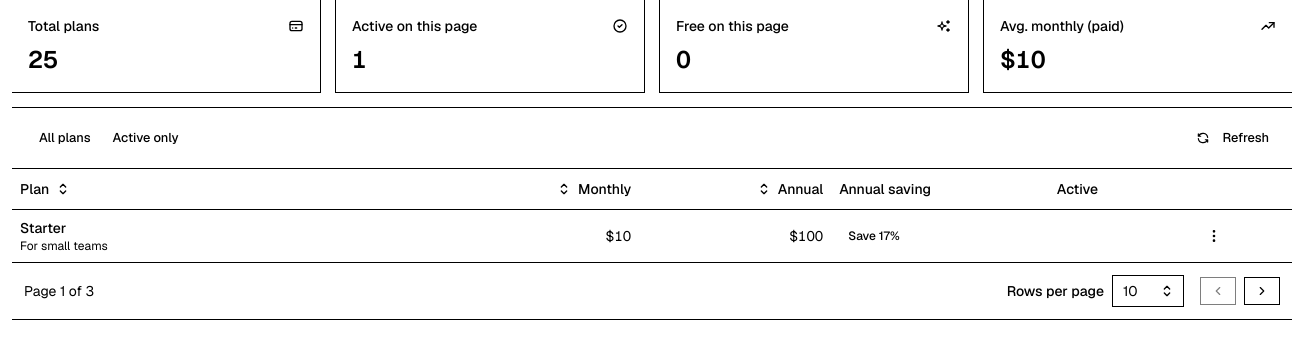
Test: PlanAdmin extras › goes back a page with Previous
Expected: the text "Starter" is shown, [20,218,66,238]
Click the button named "Next page": coordinates (1262, 290) [1244,276,1280,304]
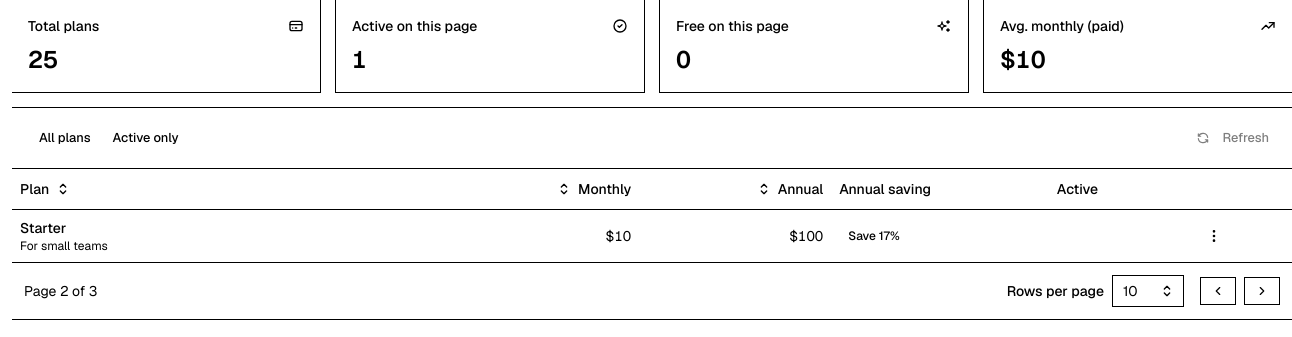
Expected: the text "Page 2 of 3" is shown, [24,280,97,300]
Click the button named "Previous page": coordinates (1218, 290) [1200,276,1236,304]
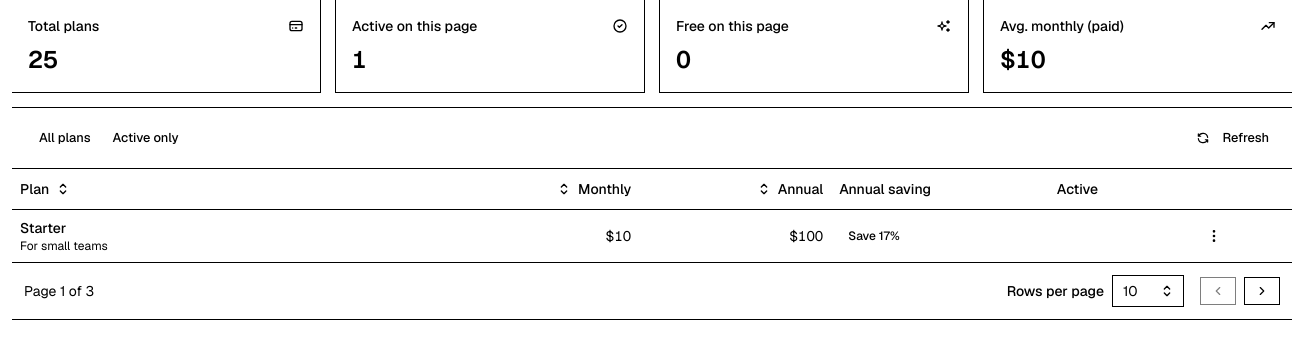
Expected: the text "Page 1 of 3" is shown, [24,280,94,300]
